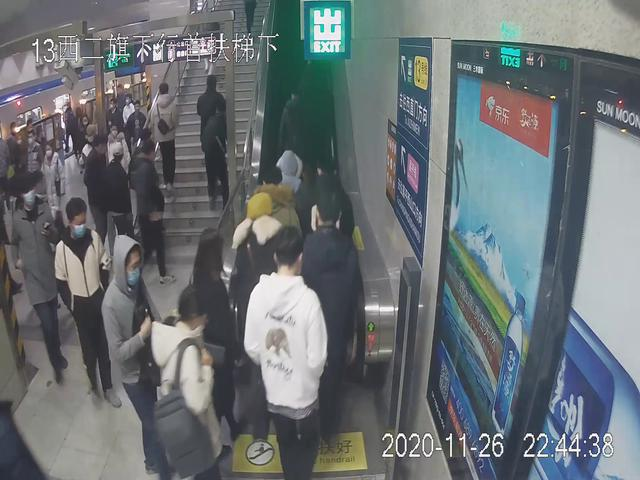person: (246, 225, 330, 480), (299, 193, 371, 464), (103, 230, 179, 478), (181, 222, 246, 470), (150, 282, 224, 480), (54, 190, 122, 405), (13, 168, 71, 380), (130, 134, 173, 284), (197, 71, 227, 205), (149, 74, 181, 199), (204, 103, 230, 203)
